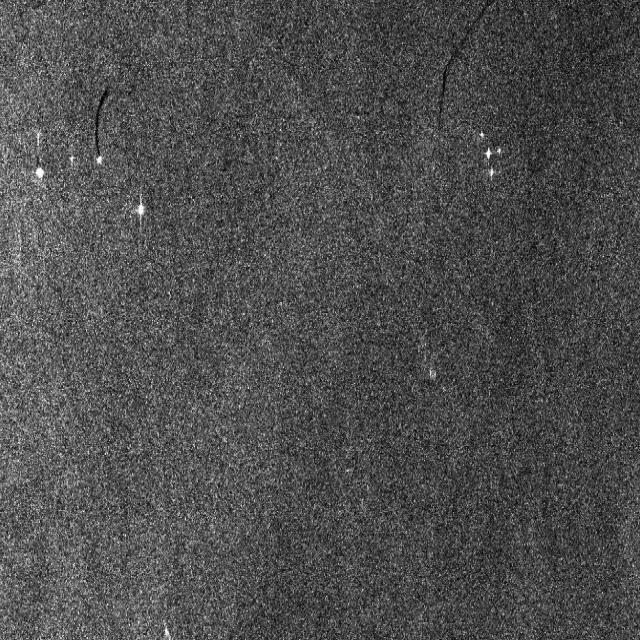oil-spill: (434, 0, 492, 124), (81, 79, 112, 156)
ship: (127, 193, 149, 229), (484, 148, 497, 182), (32, 160, 46, 187)
